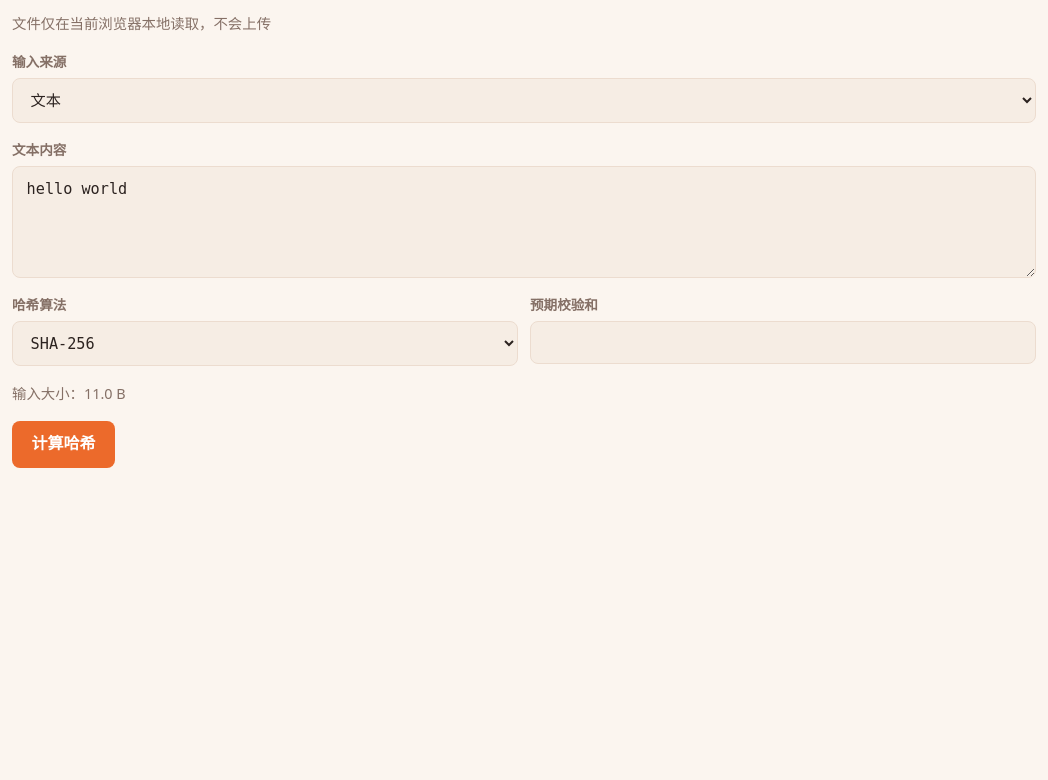
shows the source size, accessible progress, and a cancel button while a job runs
Click the button "计算哈希" at [63, 444], box [12,421,115,468]
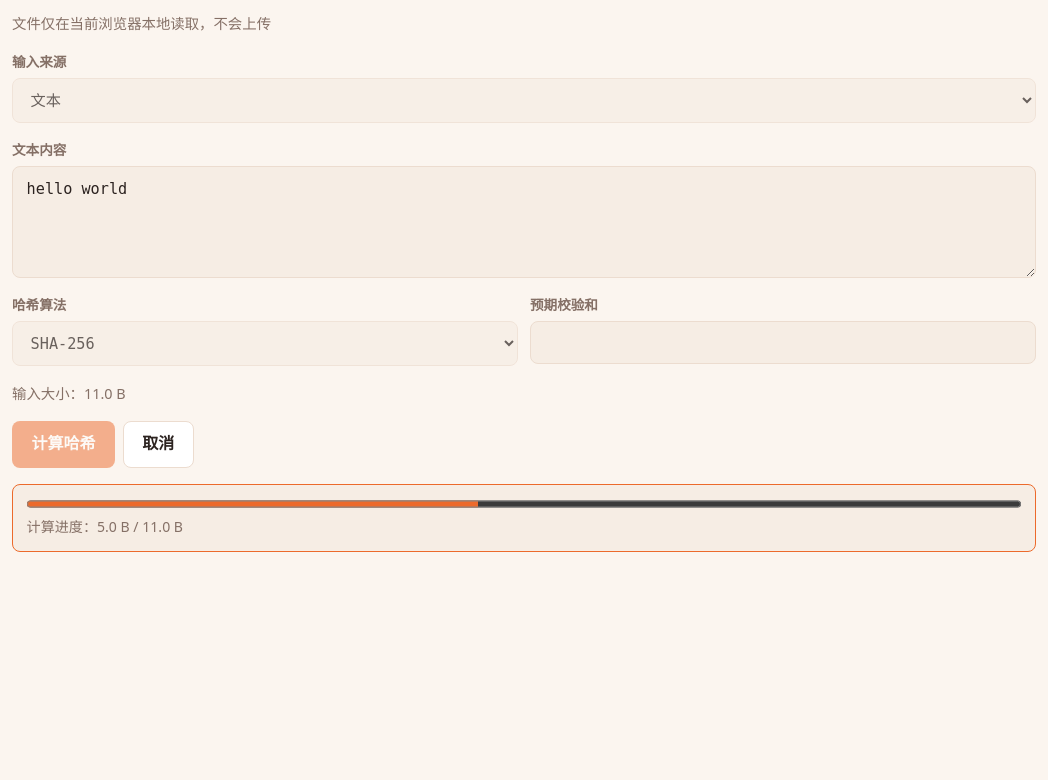
Now the message shows "0 B / 11.0 B", box [12,484,1036,552]
Now the button "取消" is shown, box [123,421,194,468]
Now the dropdown labelled "输入来源" is disabled, box [12,78,1036,123]
